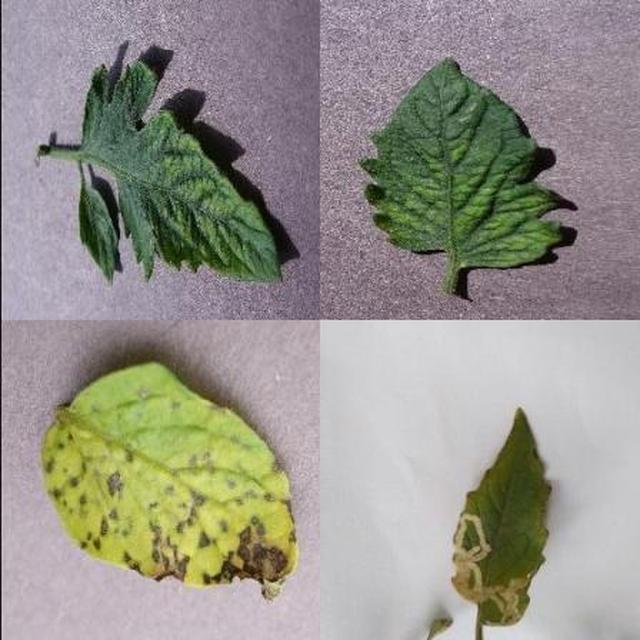Mosaic Virus Leaf: (153, 233, 640, 640)
